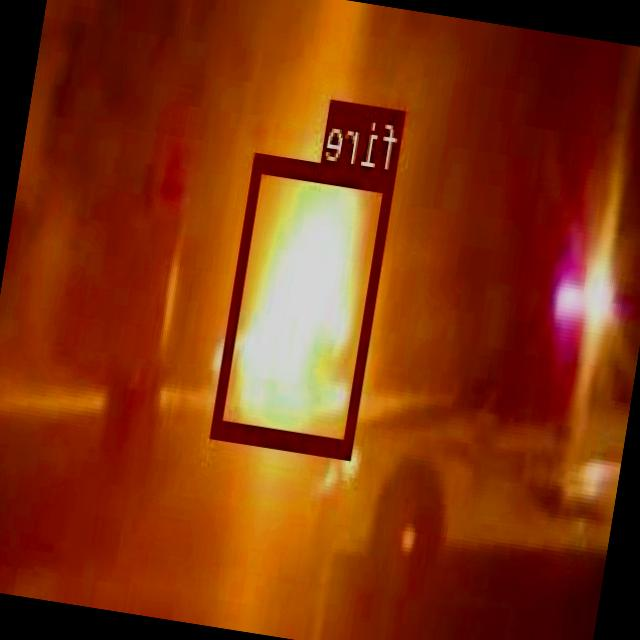fire: (213, 149, 397, 456)
